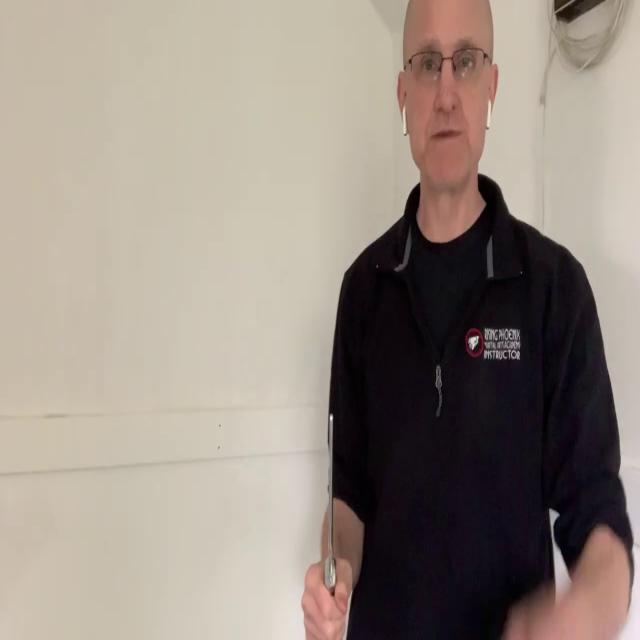Knife_Handle: (301, 412, 353, 640)
